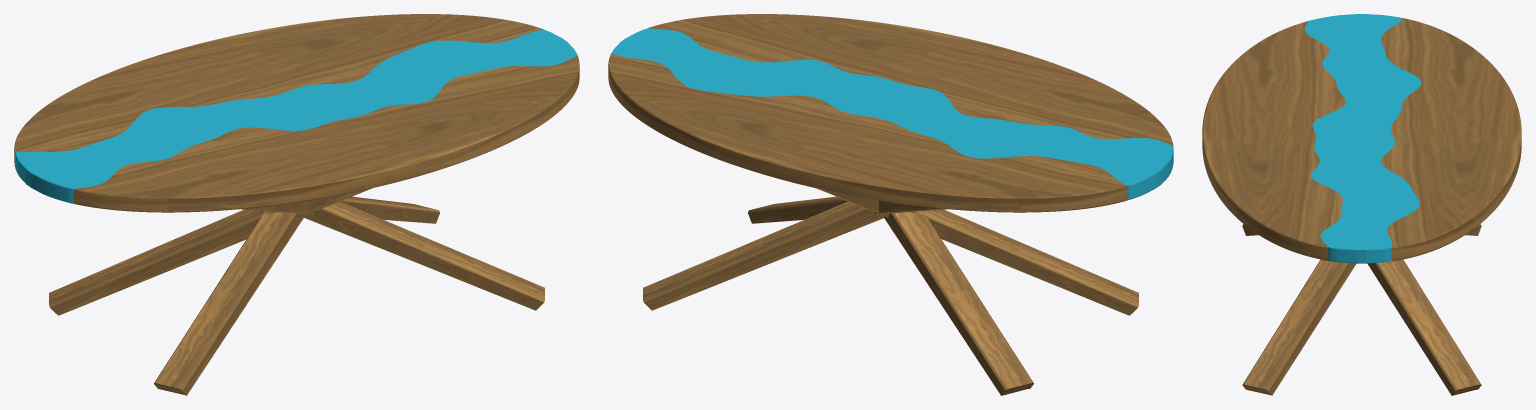
Rendered from ellipse-elm-epoxy-ocean.glb.
3 views of the same model, side by side, from view 1: azimuth 30°, elevation 25°; view 2: azimuth 150°, elevation 25°; view 3: azimuth 270°, elevation 25° (orthographic). The views are drawn at different scales.
Visible parts, largest first — view 1: Wood_Ellipse_EpoxyFar, Wood_Ellipse_EpoxyNear, Base_Ellipse, Resin_Ellipse; view 2: Wood_Ellipse_EpoxyNear, Wood_Ellipse_EpoxyFar, Base_Ellipse, Resin_Ellipse; view 3: Wood_Ellipse_EpoxyNear, Wood_Ellipse_EpoxyFar, Resin_Ellipse, Base_Ellipse.
Boxes of the visible parts, x1,y1,x2,y2 form: Wood_Ellipse_EpoxyFar: (73,55,579,212); Wood_Ellipse_EpoxyNear: (14,14,543,166); Base_Ellipse: (49,188,544,395); Resin_Ellipse: (15,29,577,203); Wood_Ellipse_EpoxyNear: (608,53,1127,212); Wood_Ellipse_EpoxyFar: (647,14,1173,145); Base_Ellipse: (643,188,1138,395); Resin_Ellipse: (611,28,1173,200); Wood_Ellipse_EpoxyNear: (1381,18,1521,261); Wood_Ellipse_EpoxyFar: (1202,21,1345,260); Resin_Ellipse: (1305,14,1421,263); Base_Ellipse: (1242,224,1481,395).
Bounding box in the file's own units: 2.13 × 0.762 × 1.22.
Materials: 2 (1 with a texture image).
